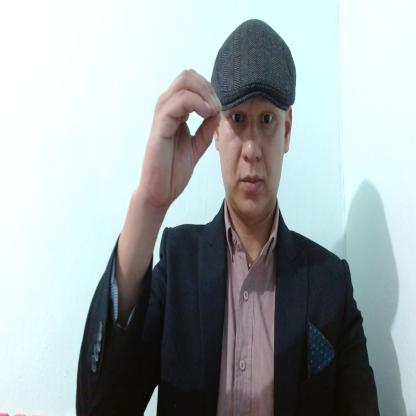O: (140, 65, 224, 204)
